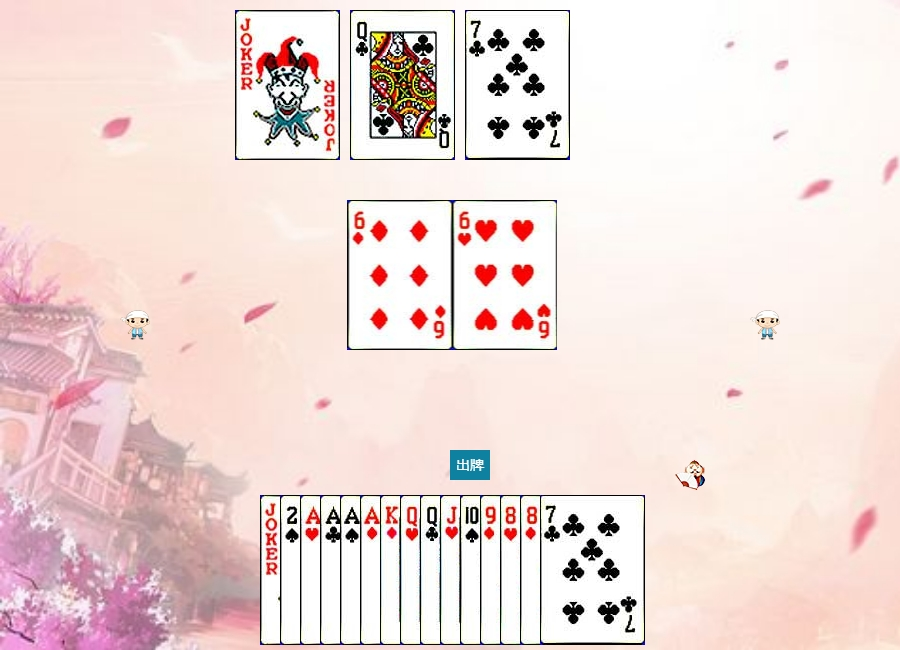10~4: (460, 495, 565, 645)
11~3: (440, 495, 545, 645)
12~2: (350, 10, 455, 160), (420, 495, 525, 645)
12~3: (400, 495, 505, 645)
13~1: (380, 495, 485, 645)
14~1: (360, 495, 465, 645)
14~2: (320, 495, 425, 645)
14~3: (300, 495, 405, 645)
14~4: (340, 495, 445, 645)
15~4: (280, 495, 385, 645)
18~4: (235, 10, 340, 160), (260, 495, 365, 645)
6~1: (348, 200, 453, 350)
6~3: (453, 200, 558, 350)
7~2: (465, 10, 570, 160), (540, 495, 645, 645)
8~1: (520, 495, 625, 645)
8~3: (500, 495, 605, 645)
9~1: (480, 495, 585, 645)
